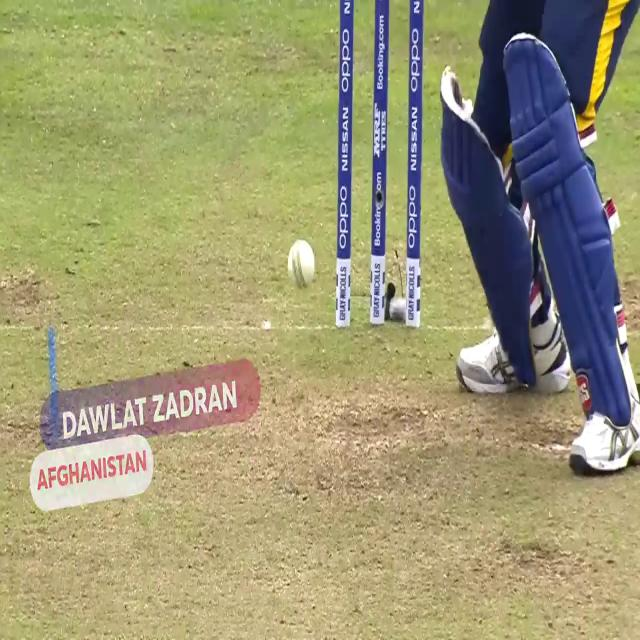ball: (284, 232, 322, 306)
